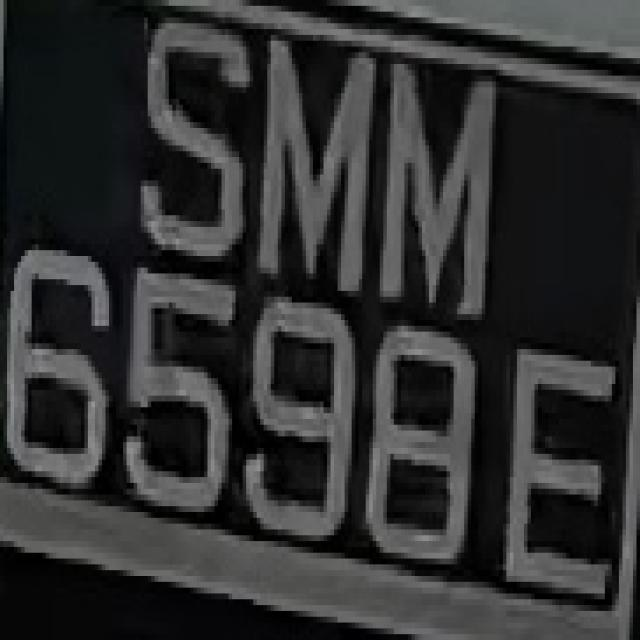5: (134, 244, 235, 524)
6: (11, 198, 109, 529)
8: (355, 297, 475, 576)
9: (242, 274, 358, 558)
E: (496, 314, 619, 628)
M: (250, 24, 380, 308), (383, 29, 492, 338)
S: (137, 6, 246, 285)
